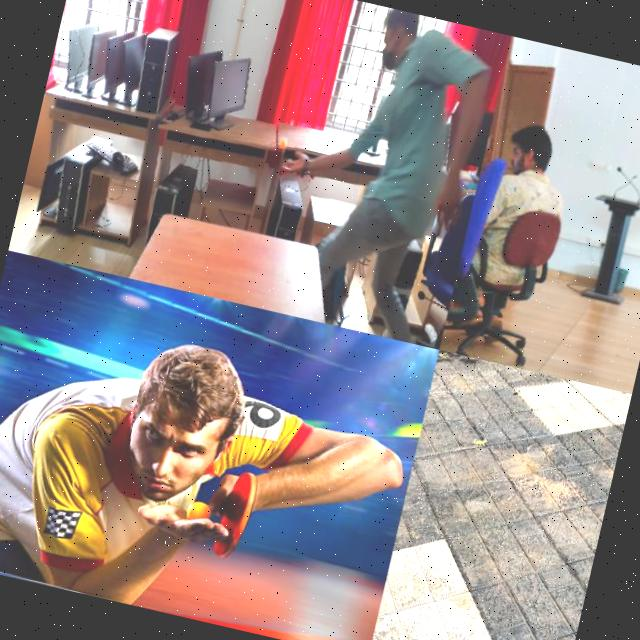ping-pong-ball: (184, 499, 212, 526), (276, 136, 288, 154)
